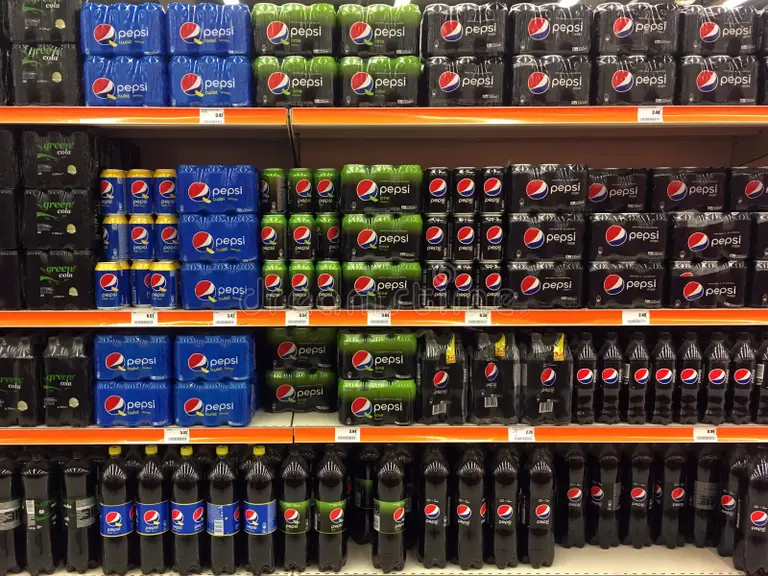soft_drink: (255, 54, 335, 109), (583, 258, 664, 306), (343, 263, 422, 311), (286, 166, 317, 215), (101, 167, 129, 218), (451, 163, 479, 209), (264, 258, 287, 303)
